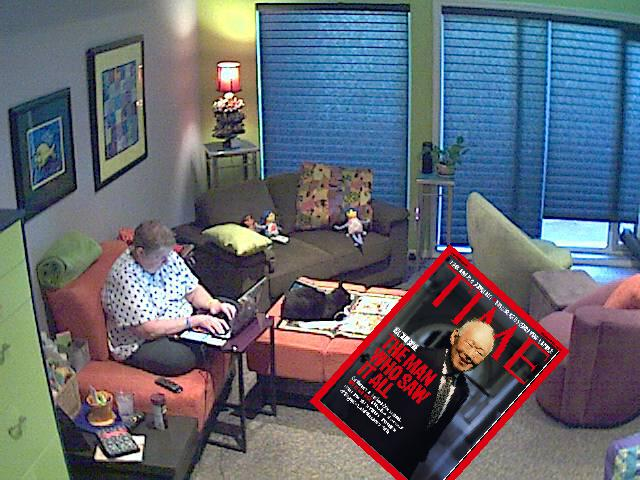times: (306, 240, 569, 480)
